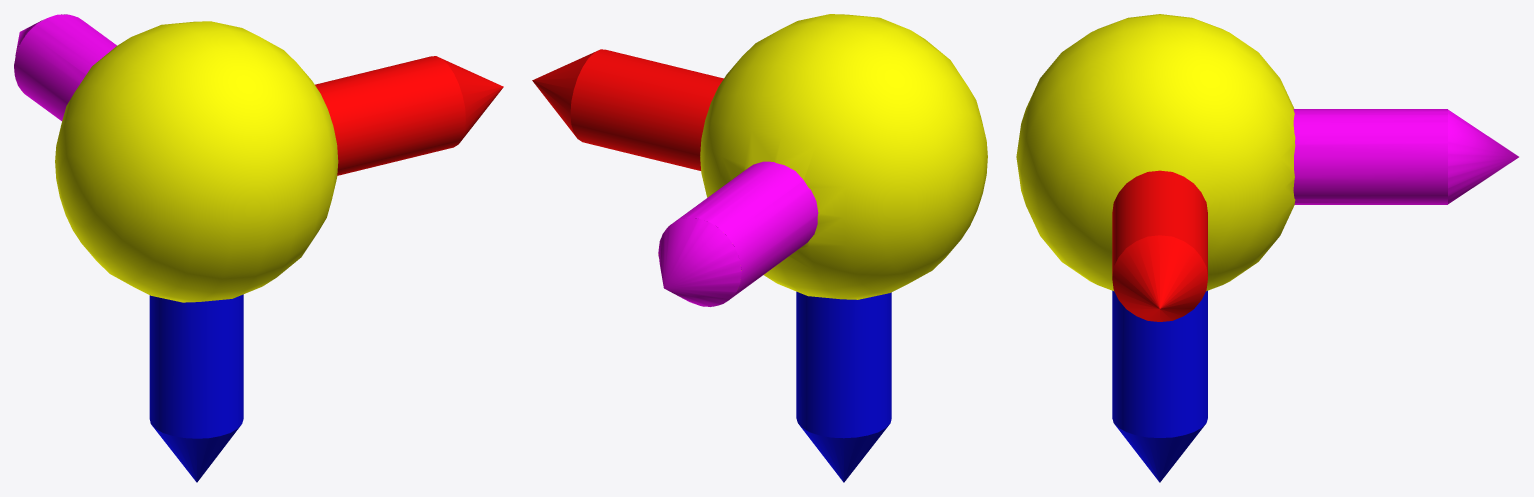
The model's file is ball.glb.
The picture shows the model from 3 angles, left to right: view 1: azimuth 30°, elevation 25°; view 2: azimuth 150°, elevation 25°; view 3: azimuth 270°, elevation 25°; orthographic projection.
Size of the model in its own units: 1.07 by 1.07 by 1.07.
